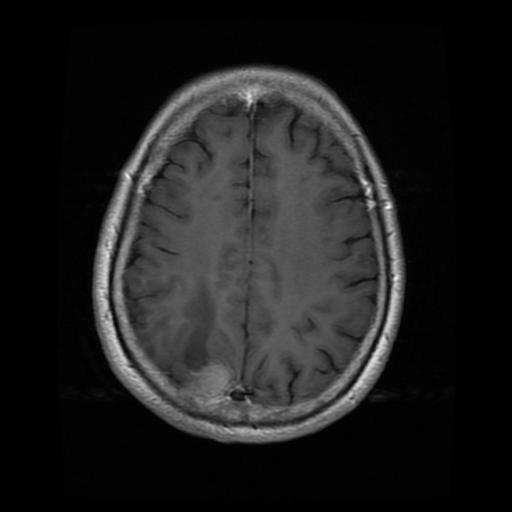Tumour-Meningioma: (159, 347, 246, 416)
